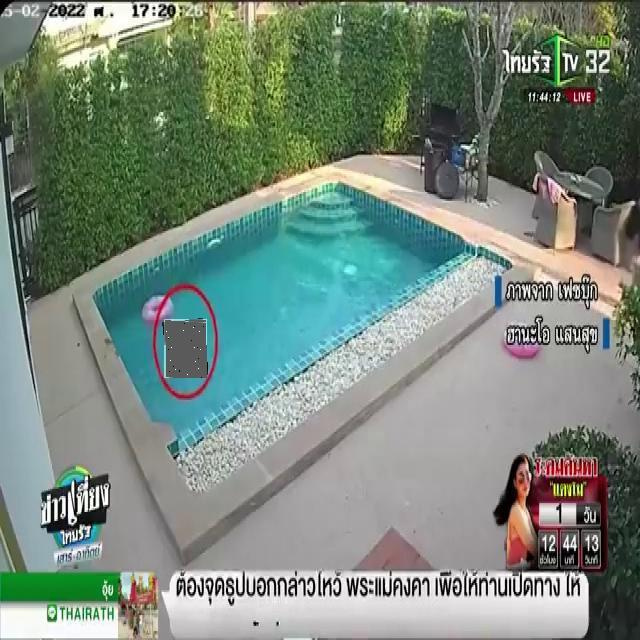Out of Water: (164, 319, 207, 378)
